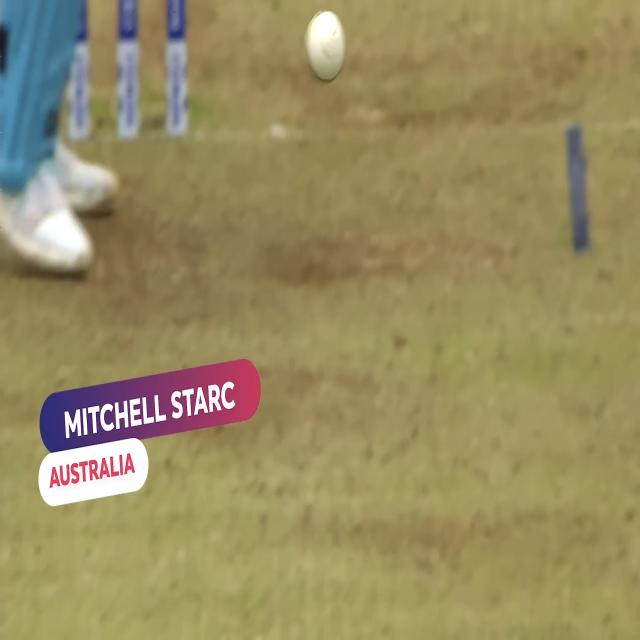ball: (290, 9, 356, 87)
